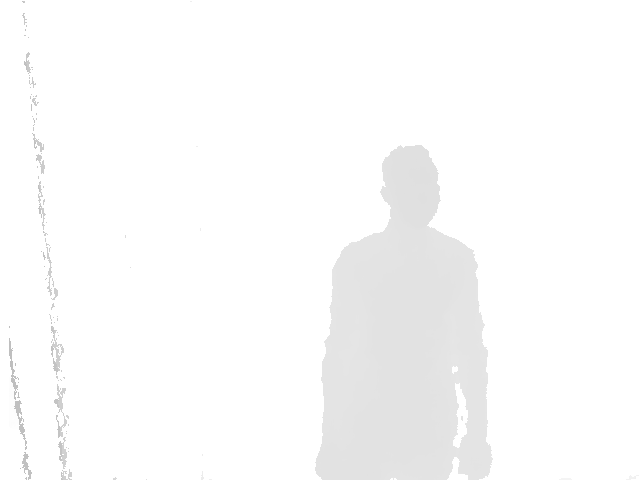head: (379, 144, 441, 229)
person: (315, 144, 494, 480)
